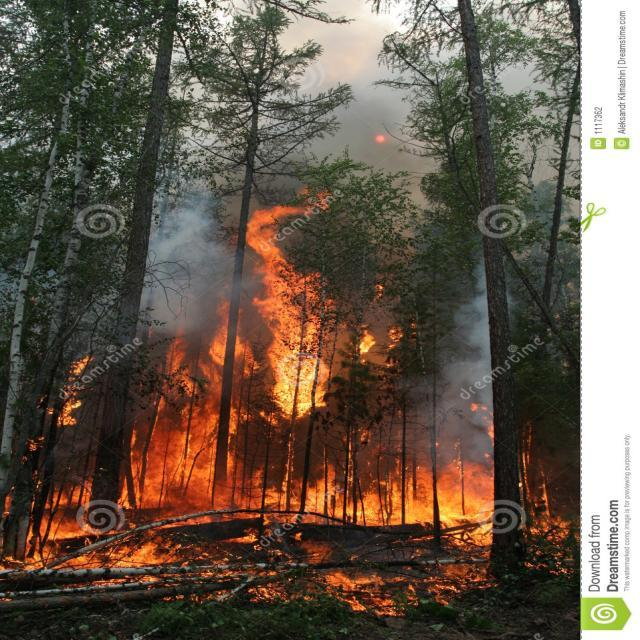Fire: (224, 206, 404, 420), (112, 359, 270, 514), (232, 466, 526, 528), (32, 528, 206, 596), (216, 549, 350, 623), (313, 566, 443, 634), (28, 340, 94, 465), (514, 506, 626, 572), (353, 310, 421, 362)
Smoke: (306, 89, 506, 254)
